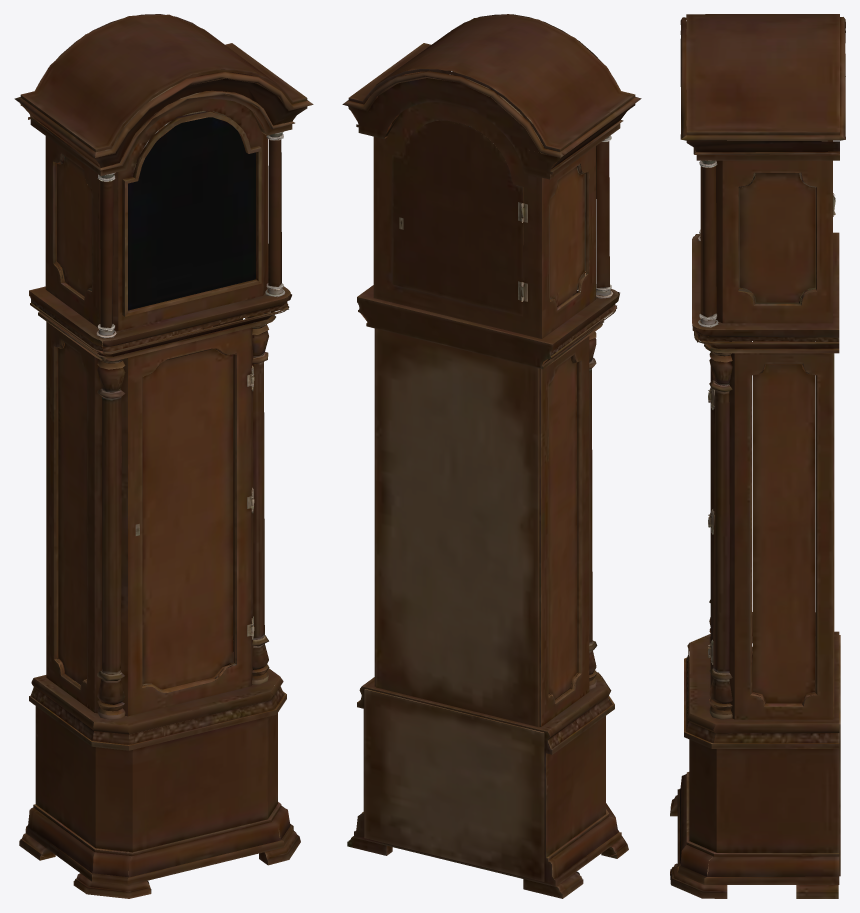
File: ph_vintage_grandfather_clock_01.glb
3 renders of one model, left to right at view 1: azimuth 30°, elevation 25°; view 2: azimuth 150°, elevation 25°; view 3: azimuth 270°, elevation 25°, orthographic. The views are drawn at different scales.
Parts seen in each view (by area): view 1: vintage_grandfather_clock_01_body; view 2: vintage_grandfather_clock_01_body; view 3: vintage_grandfather_clock_01_body.
Part boxes in pixels (bbox=[...]): vintage_grandfather_clock_01_body: bbox=[14, 14, 313, 898]; vintage_grandfather_clock_01_body: bbox=[342, 14, 641, 898]; vintage_grandfather_clock_01_body: bbox=[670, 14, 845, 898].
Bounding box in the file's own units: 0.6257 × 2.19 × 0.4267.
2 materials, 2 textured.
